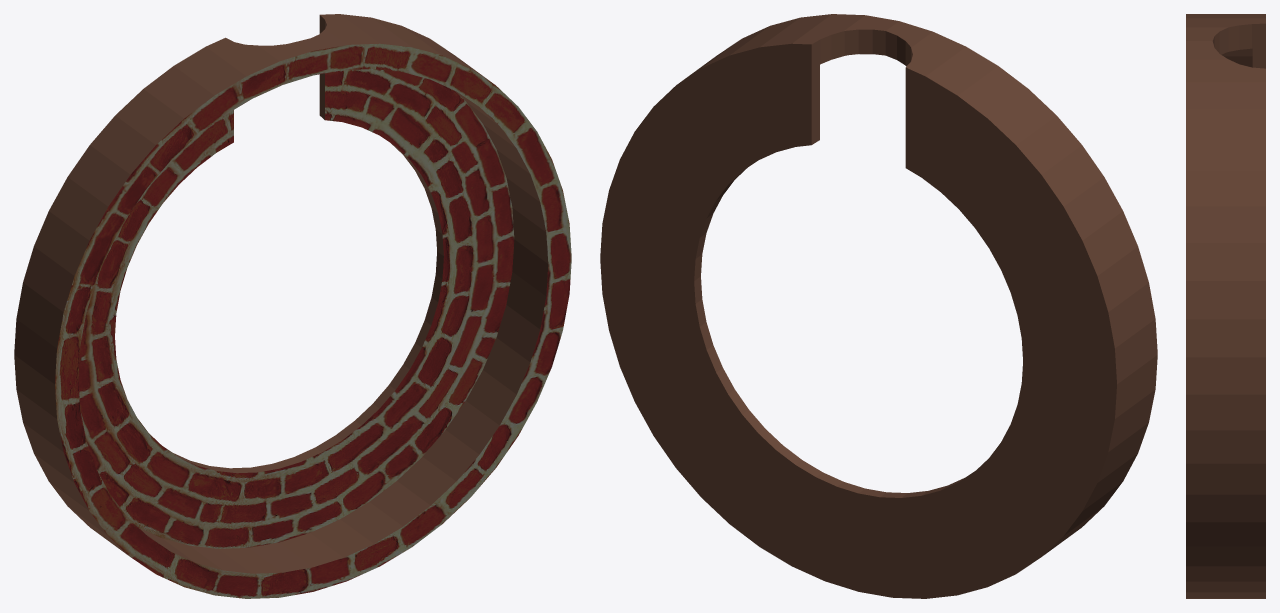
The model's file is pool_004.obj.
3 views of the same model, side by side, from view 1: azimuth 30°, elevation 25°; view 2: azimuth 150°, elevation 25°; view 3: azimuth 270°, elevation 25° (orthographic).
Bounding box in the file's own units: 22 × 22 × 3.
Materials: 1 (1 with a texture image).
